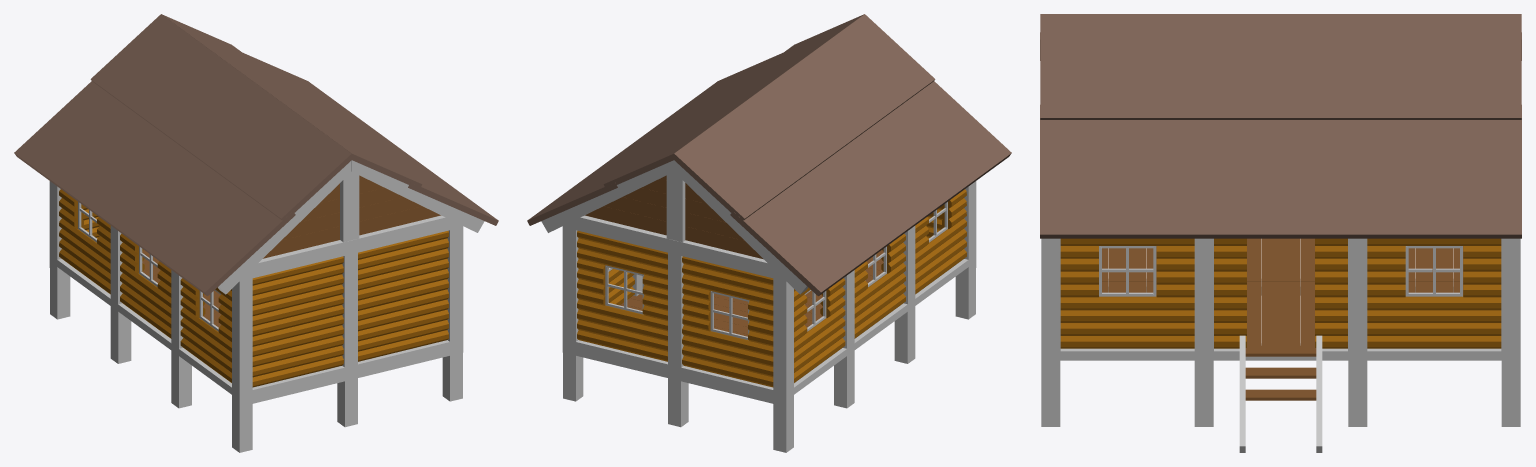
File: House1Full.obj
The picture shows the model from 3 angles, left to right: view 1: azimuth 30°, elevation 25°; view 2: azimuth 150°, elevation 25°; view 3: azimuth 270°, elevation 25°; orthographic projection. The views are drawn at different scales.
Parts seen in each view (by area): view 1: 086.ThatchRoof.Bot.002_Cube.012, 087.ThatchRoof.Top.002_Cube.013, 047.Wall.001_Cylinder.044, 046.Wall.002_Cylinder.043, 085.ThatchRoof.Top.001_Cube.168, 084.ThatchRoof.Bot.001_Cube.167, 016.Beam.FloorLong.001_Cube.017, 061.Beam.GableBase.002_Cube.121, 048.Wall.Window.007_Cylinder.039, 049.Wall.Window.006_Cylinder.045, 050.Wall.Window.005_Cylinder.040, 081.GablePlank.002_Cube.164 (+20 smaller); view 2: 086.ThatchRoof.Bot.002_Cube.012, 087.ThatchRoof.Top.002_Cube.013, 051.Wall.Window.004_Cylinder.042, 052.Wall.Window.003_Cylinder.041, 085.ThatchRoof.Top.001_Cube.168, 084.ThatchRoof.Bot.001_Cube.167, 023.Beam.FloorLong.002_Cube.102, 062.Beam.GableBase.001_Cube.125, 050.Wall.Window.005_Cylinder.040, 049.Wall.Window.006_Cylinder.045, 048.Wall.Window.007_Cylinder.039, 082.GablePlank.003_Cube.166 (+24 smaller); view 3: 084.ThatchRoof.Bot.001_Cube.167, 085.ThatchRoof.Top.001_Cube.168, 045.Wall.Window.001_Cylinder.021, 053.Wall.Window.002_Cylinder.036, 054.Wall.Door.001_Cylinder.035, 029.PlankFloor.002_Cube.069, 033.PlankFloor.005_Cube.072, 035.Beam.Wall.003_Cube.058, 038.Beam.Wall.006_Cube.116, 036.Beam.Wall.004_Cube.104, 037.Beam.Wall.005_Cube.106, 088.Beam.Window.002_Cube.027 (+16 smaller).
Part boxes in pixels (box(x1,y1,x2,y2)): 086.ThatchRoof.Bot.002_Cube.012: box(14, 81, 295, 296); 087.ThatchRoof.Top.002_Cube.013: box(90, 14, 354, 220); 047.Wall.001_Cylinder.044: box(252, 256, 343, 387); 046.Wall.002_Cylinder.043: box(358, 231, 448, 361); 085.ThatchRoof.Top.001_Cube.168: box(161, 14, 422, 186); 084.ThatchRoof.Bot.001_Cube.167: box(243, 53, 498, 225); 016.Beam.FloorLong.001_Cube.017: box(235, 339, 463, 406); 061.Beam.GableBase.002_Cube.121: box(239, 215, 463, 281); 048.Wall.Window.007_Cylinder.039: box(180, 278, 231, 382); 049.Wall.Window.006_Cylinder.045: box(120, 233, 171, 338); 050.Wall.Window.005_Cylinder.040: box(59, 189, 110, 294); 081.GablePlank.002_Cube.164: box(359, 175, 440, 235); 086.ThatchRoof.Bot.002_Cube.012: box(730, 81, 1011, 296); 087.ThatchRoof.Top.002_Cube.013: box(674, 14, 935, 220); 051.Wall.Window.004_Cylinder.042: box(682, 256, 773, 387); 052.Wall.Window.003_Cylinder.041: box(577, 231, 667, 361); 085.ThatchRoof.Top.001_Cube.168: box(603, 14, 864, 186); 084.ThatchRoof.Bot.001_Cube.167: box(527, 53, 782, 225); 023.Beam.FloorLong.002_Cube.102: box(562, 339, 790, 406); 062.Beam.GableBase.001_Cube.125: box(562, 215, 786, 281); 050.Wall.Window.005_Cylinder.040: box(794, 278, 845, 382); 049.Wall.Window.006_Cylinder.045: box(854, 233, 905, 338); 048.Wall.Window.007_Cylinder.039: box(915, 189, 966, 294); 082.GablePlank.003_Cube.166: box(585, 175, 666, 235); 084.ThatchRoof.Bot.001_Cube.167: box(1040, 105, 1521, 238); 085.ThatchRoof.Top.001_Cube.168: box(1040, 14, 1521, 119); 045.Wall.Window.001_Cylinder.021: box(1060, 238, 1194, 348); 053.Wall.Window.002_Cylinder.036: box(1367, 238, 1501, 348); 054.Wall.Door.001_Cylinder.035: box(1214, 238, 1347, 348); 029.PlankFloor.002_Cube.069: box(1247, 281, 1314, 345); 033.PlankFloor.005_Cube.072: box(1247, 238, 1314, 281); 035.Beam.Wall.003_Cube.058: box(1041, 238, 1060, 351); 038.Beam.Wall.006_Cube.116: box(1501, 238, 1520, 351); 036.Beam.Wall.004_Cube.104: box(1194, 238, 1213, 351); 037.Beam.Wall.005_Cube.106: box(1348, 238, 1367, 351); 088.Beam.Window.002_Cube.027: box(1099, 246, 1462, 296).
Bounding box in the file's own units: 6.09 × 4.95 × 6.28.
